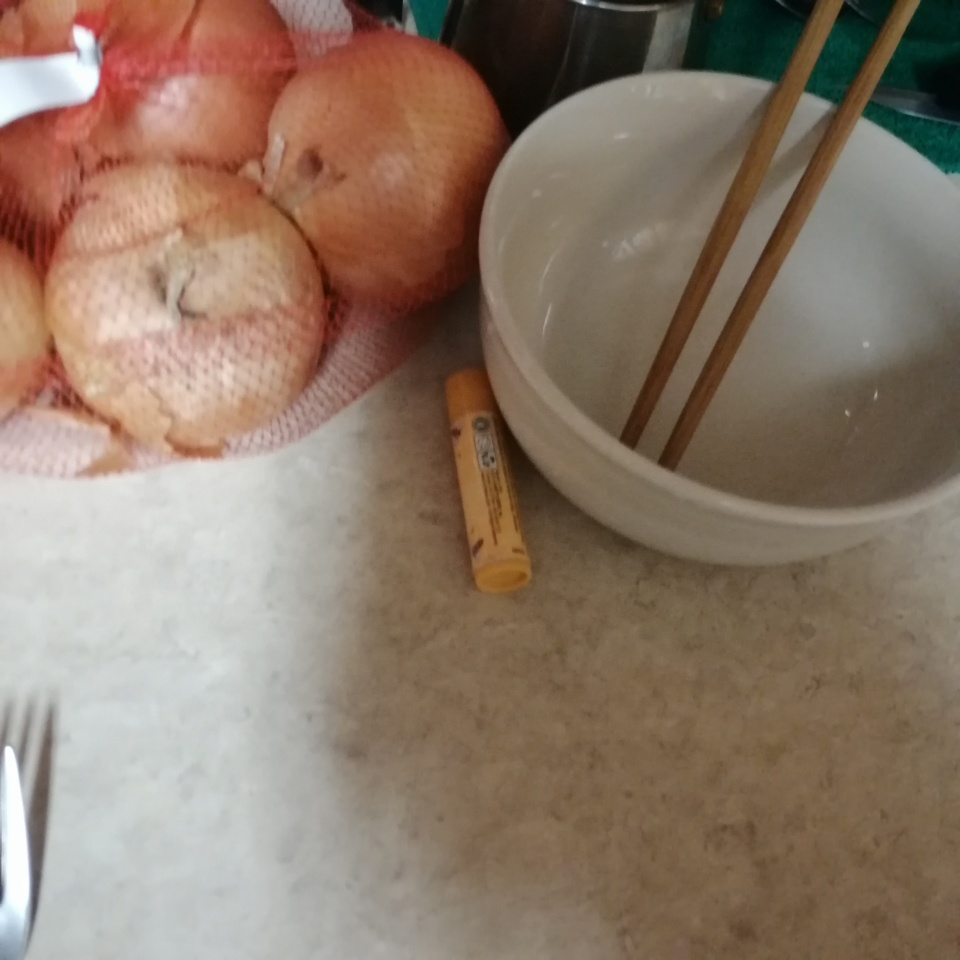chapstick: (439, 365, 535, 595)
